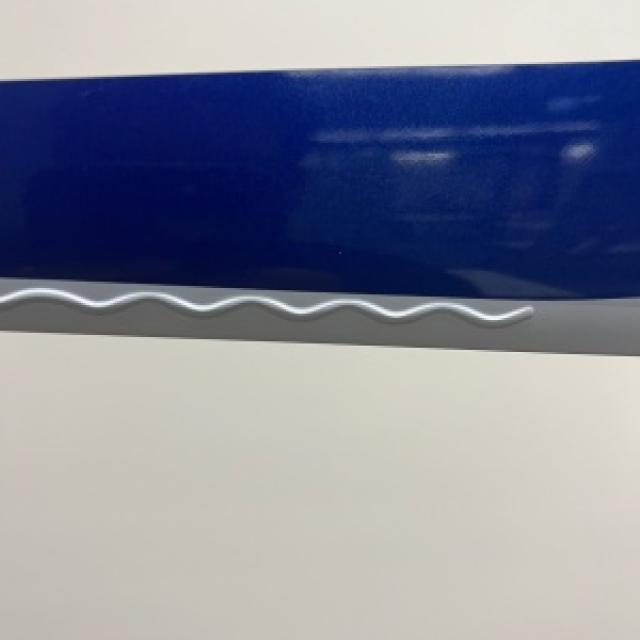healthy: (0, 62, 638, 352)
